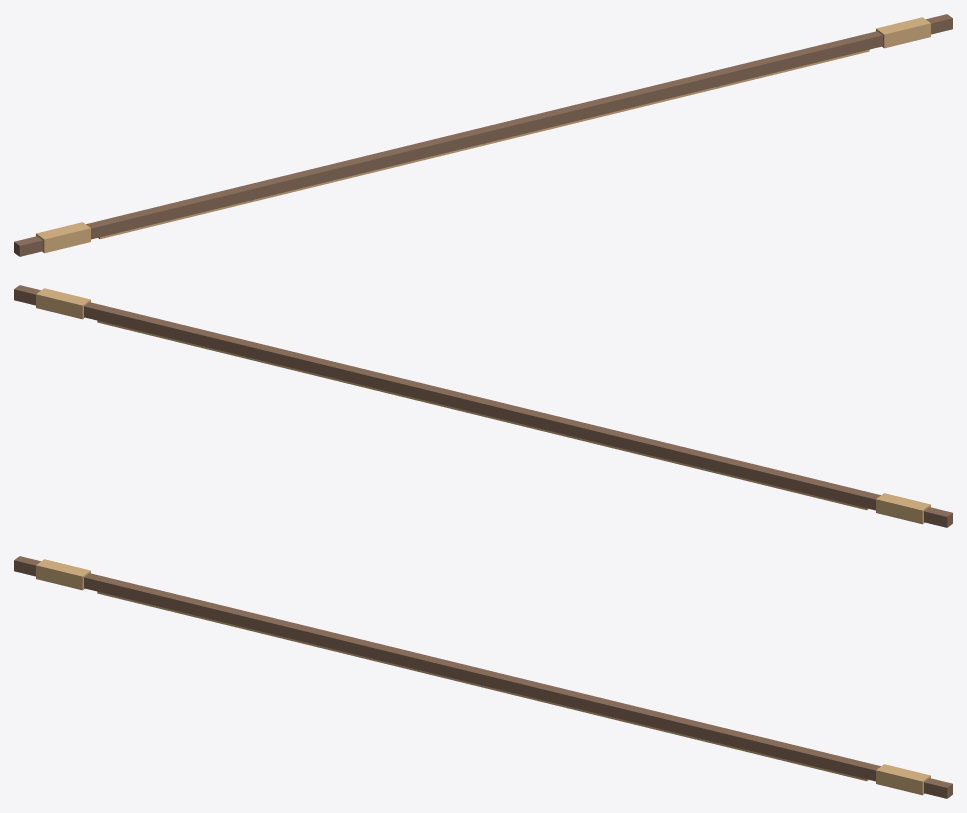
Rendered from roof-truss-long.glb.
3 views of the same model, one above another, from view 1: azimuth 30°, elevation 25°; view 2: azimuth 150°, elevation 25°; view 3: azimuth 330°, elevation 25° (orthographic).
Visible parts, largest first — view 1: world; view 2: world; view 3: world.
Boxes of the visible parts, x1,y1,x2,y2 form: world: (14,14,952,256); world: (14,285,952,527); world: (14,556,952,798).
Bounding box in the file's own units: 44.6 × 0.735 × 0.69.
